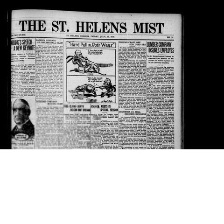news_paper: (7, 7, 185, 150)
